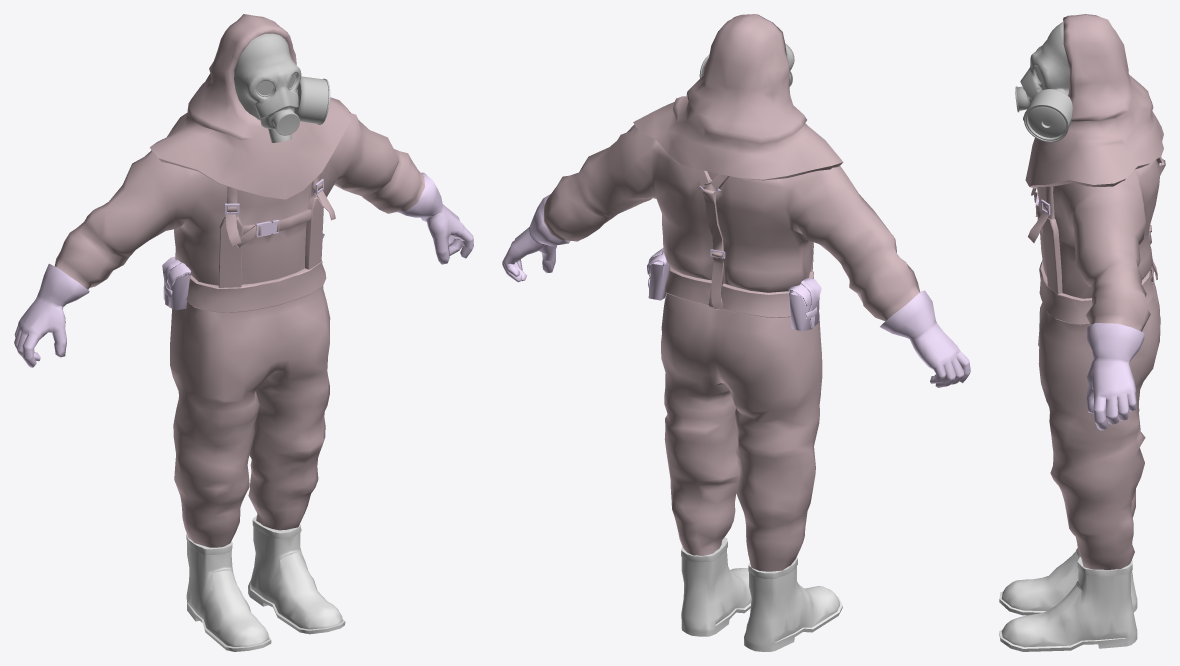
The model's file is suits.glb.
3 renders of one model, left to right at view 1: azimuth 30°, elevation 25°; view 2: azimuth 150°, elevation 25°; view 3: azimuth 270°, elevation 25°, orthographic. The views are drawn at different scales.
Parts seen in each view (by area): view 1: Hazmat_old; view 2: Hazmat_old; view 3: Hazmat_old.
Part boxes in pixels (<box>): Hazmat_old: <box>14,14,473,651</box>; Hazmat_old: <box>502,14,970,651</box>; Hazmat_old: <box>999,14,1165,651</box>.
Size of the model in its own units: 1.08 by 1.37 by 0.3382.
